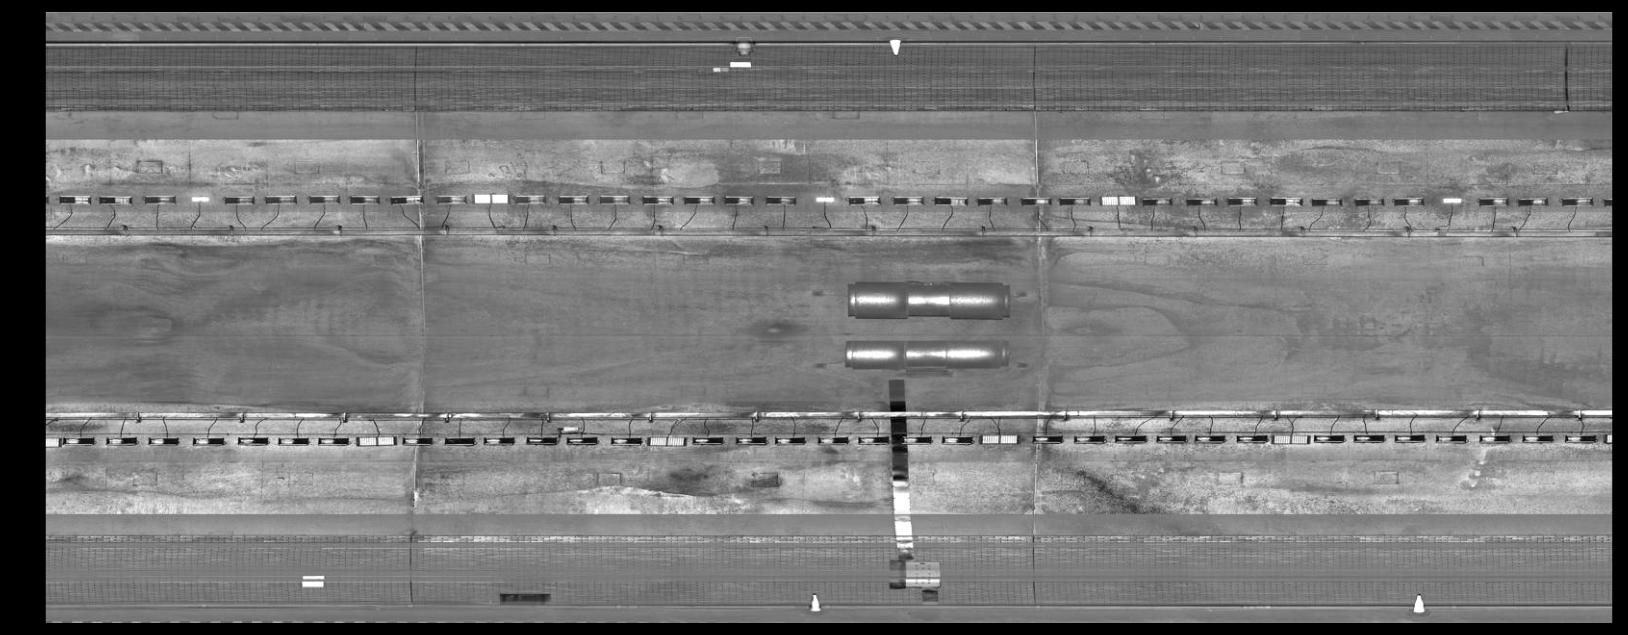light: (511, 190, 550, 208), (1268, 432, 1312, 446), (353, 434, 398, 448), (1266, 194, 1307, 210), (646, 434, 689, 448), (979, 432, 1022, 446), (1097, 193, 1137, 209), (637, 192, 677, 208), (263, 191, 299, 208), (94, 193, 136, 208), (471, 191, 510, 206), (1057, 193, 1094, 209), (555, 192, 593, 208), (387, 192, 425, 208), (1225, 193, 1261, 209), (596, 192, 632, 208), (305, 192, 342, 208), (890, 193, 928, 208), (680, 193, 718, 208), (55, 193, 93, 208), (930, 194, 971, 208), (432, 192, 469, 206), (733, 433, 770, 447), (1183, 194, 1219, 209), (1017, 193, 1054, 208), (974, 193, 1010, 208), (347, 192, 383, 206), (221, 193, 257, 208), (523, 433, 560, 447), (140, 193, 179, 206), (1562, 431, 1600, 444), (398, 433, 436, 446), (1559, 193, 1595, 208), (1475, 194, 1511, 209), (1308, 195, 1344, 210), (691, 432, 727, 446), (1138, 195, 1175, 209), (854, 434, 892, 447), (101, 434, 141, 446), (273, 435, 313, 447), (234, 434, 273, 446), (189, 435, 228, 447), (142, 435, 182, 447), (1352, 195, 1388, 209), (899, 433, 935, 446), (441, 434, 478, 447), (1389, 195, 1428, 208), (761, 194, 799, 206), (1350, 432, 1388, 444), (846, 193, 881, 206), (721, 194, 756, 208), (1311, 431, 1347, 444), (1433, 432, 1470, 444), (1389, 432, 1427, 444), (1515, 195, 1551, 208), (1191, 432, 1227, 444), (1028, 433, 1064, 445), (815, 434, 851, 446), (608, 435, 645, 447), (565, 435, 601, 447), (1519, 433, 1558, 444), (1111, 433, 1150, 444), (940, 434, 975, 446), (316, 436, 351, 448), (1475, 433, 1514, 444), (480, 435, 518, 446), (1071, 433, 1109, 444), (774, 434, 808, 446), (1234, 433, 1271, 444), (61, 435, 98, 446), (1155, 433, 1188, 444), (1439, 194, 1466, 206), (186, 194, 214, 204), (812, 194, 836, 205), (45, 436, 61, 447), (1600, 193, 1611, 209), (1602, 429, 1611, 446)
